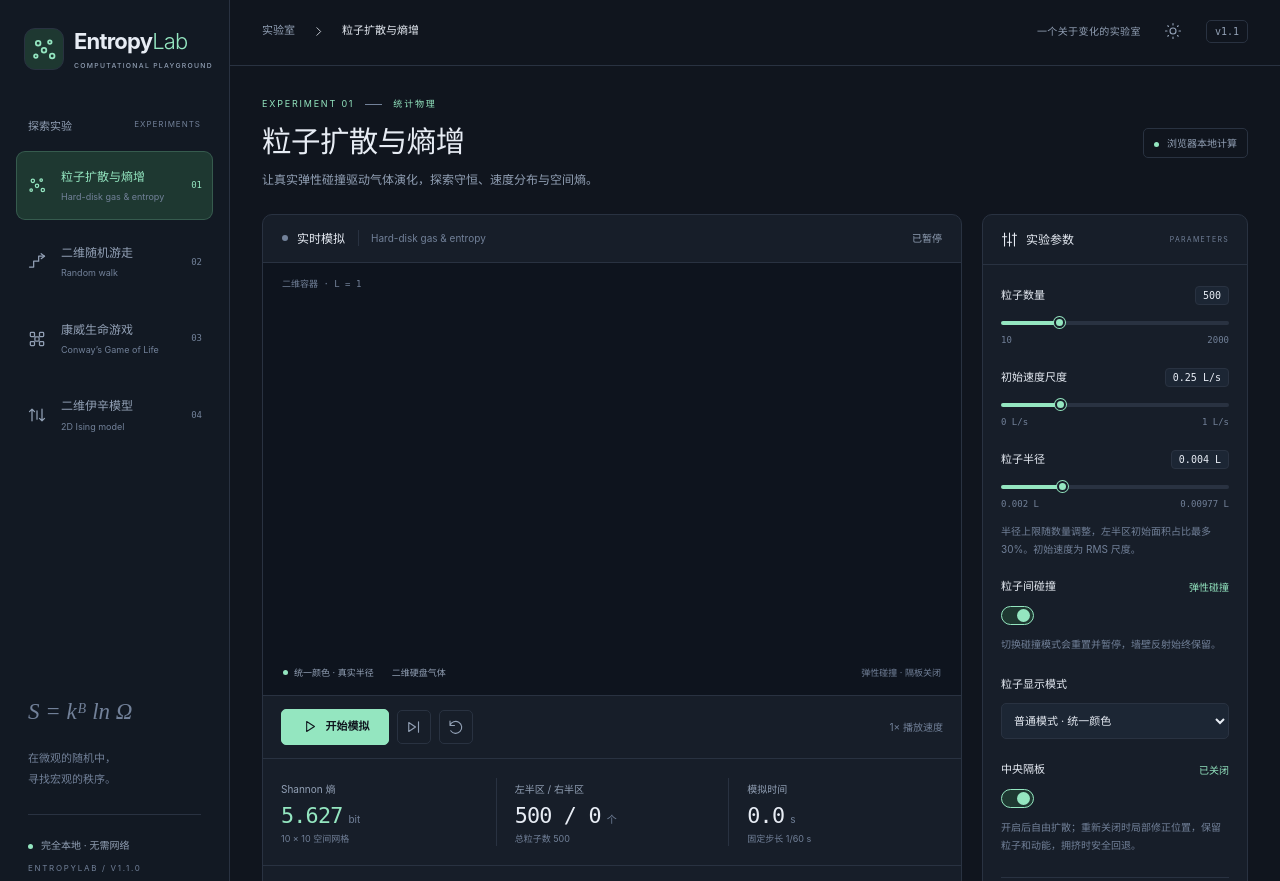
Scenario: application interaction › renders all experiments, clear labels, principle and chart units
The width and height of the screenshot is (1280, 881).
Expected: the heading "粒子扩散与熵增" is shown, [262, 123, 465, 159]
Click the button "二维随机游走 Random walk 02" at (114, 262), box [16, 227, 213, 297]
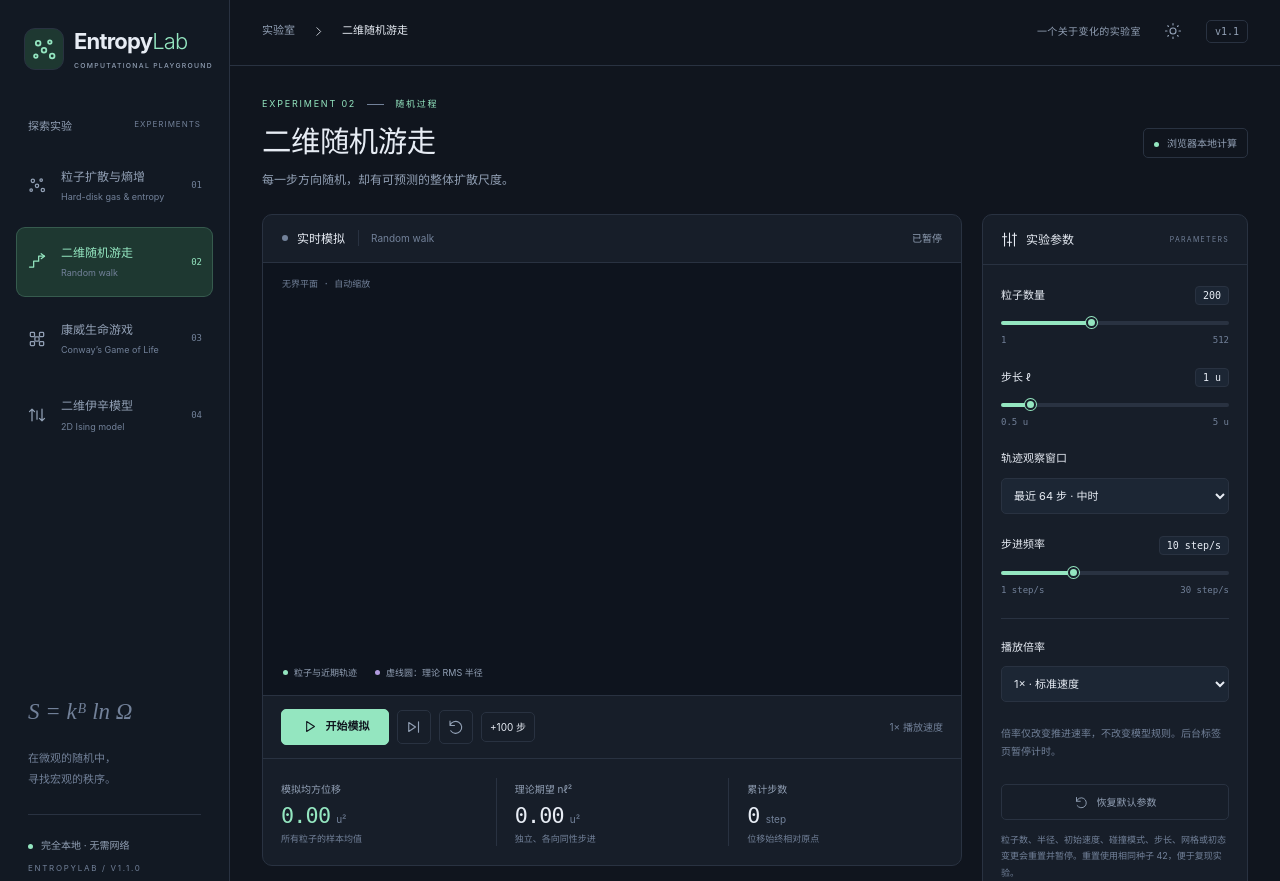
Result: the heading "二维随机游走" is shown at [262, 123, 436, 159]
Click the button "康威生命游戏 Conway’s Game of Life 03" at (114, 339), box [16, 304, 213, 373]
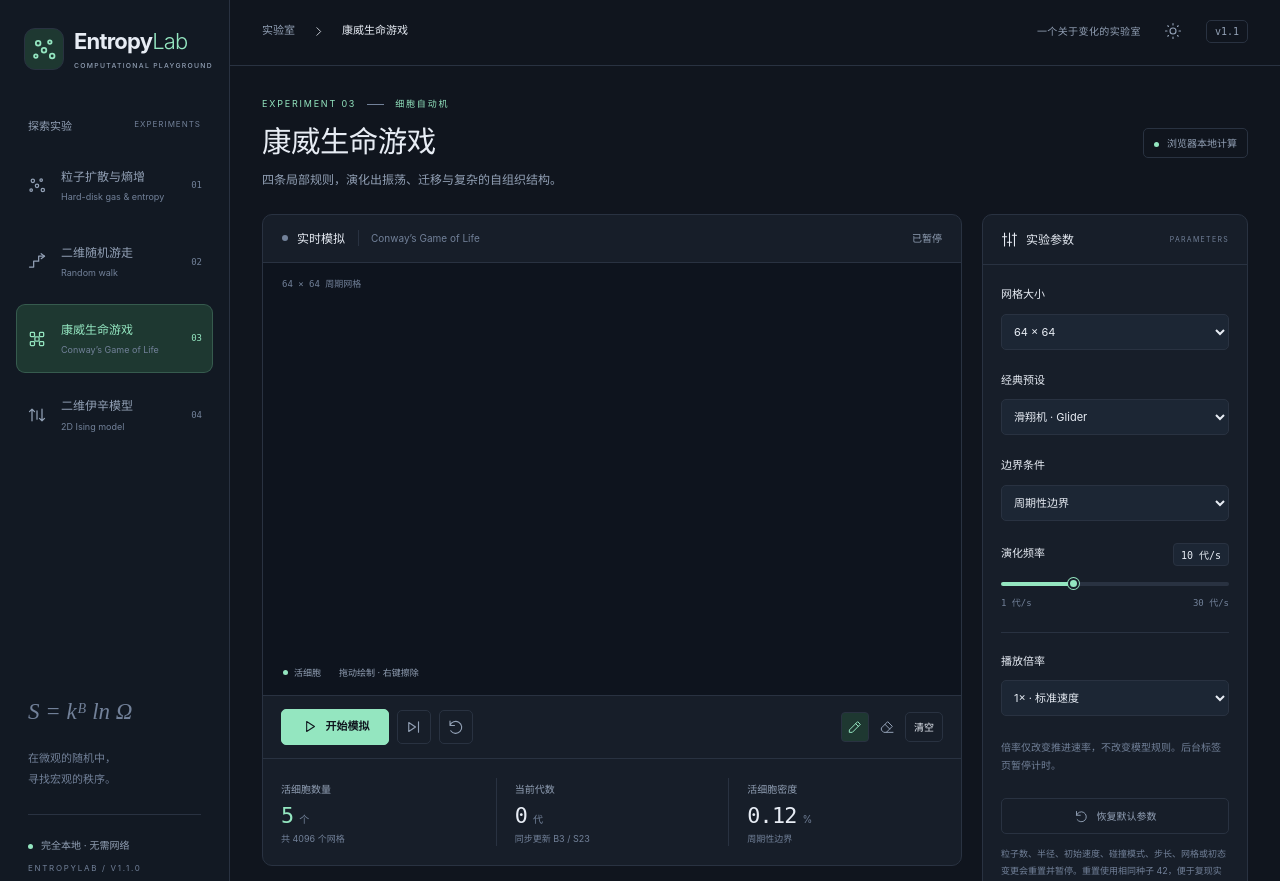
Expected: the dropdown labelled "经典预设" is shown, [1001, 399, 1229, 435]
Click the button "二维伊辛模型 2D Ising model 04" at (114, 415), box [16, 380, 213, 450]
(page scrolled)
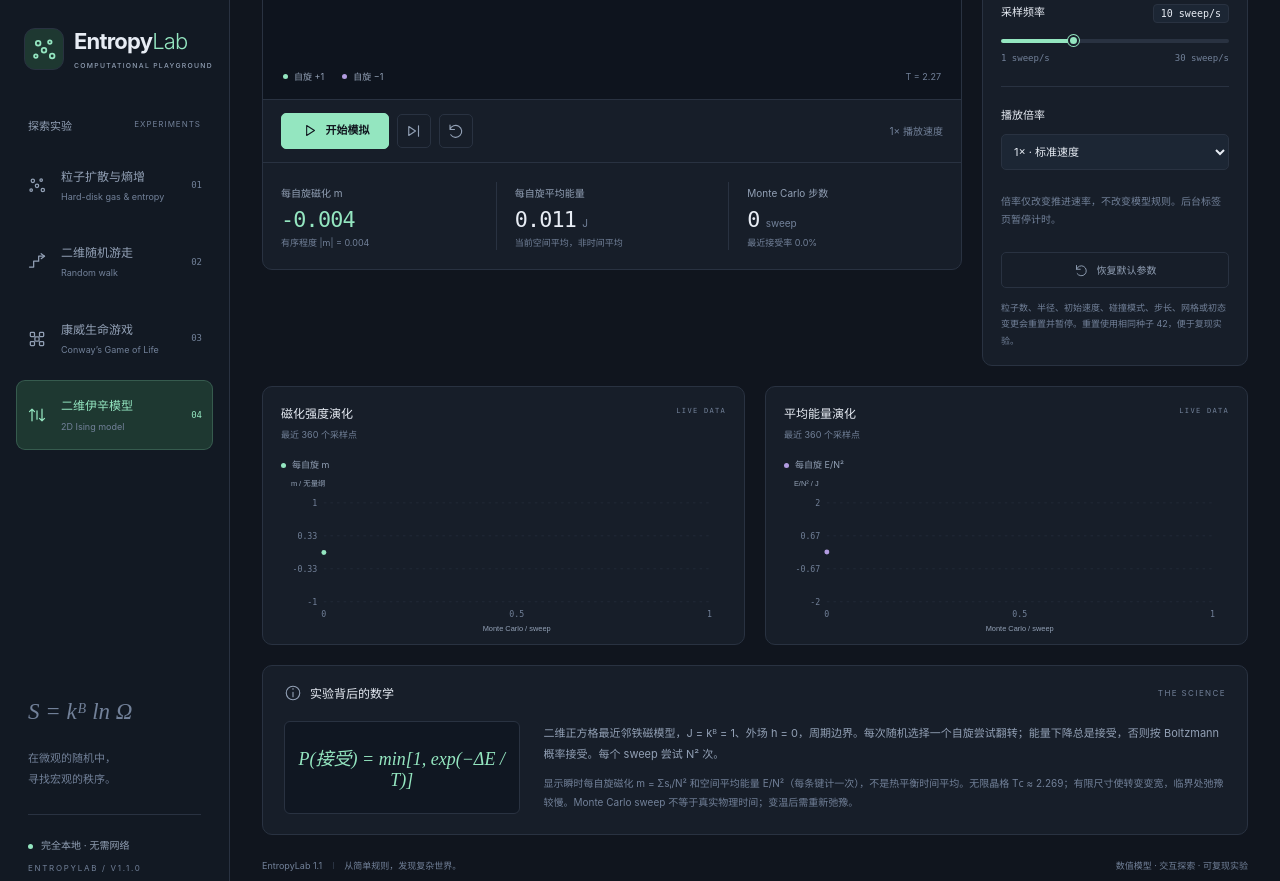
Result: the text "不等于真实物理时间" is shown at [544, 777, 1223, 808]
